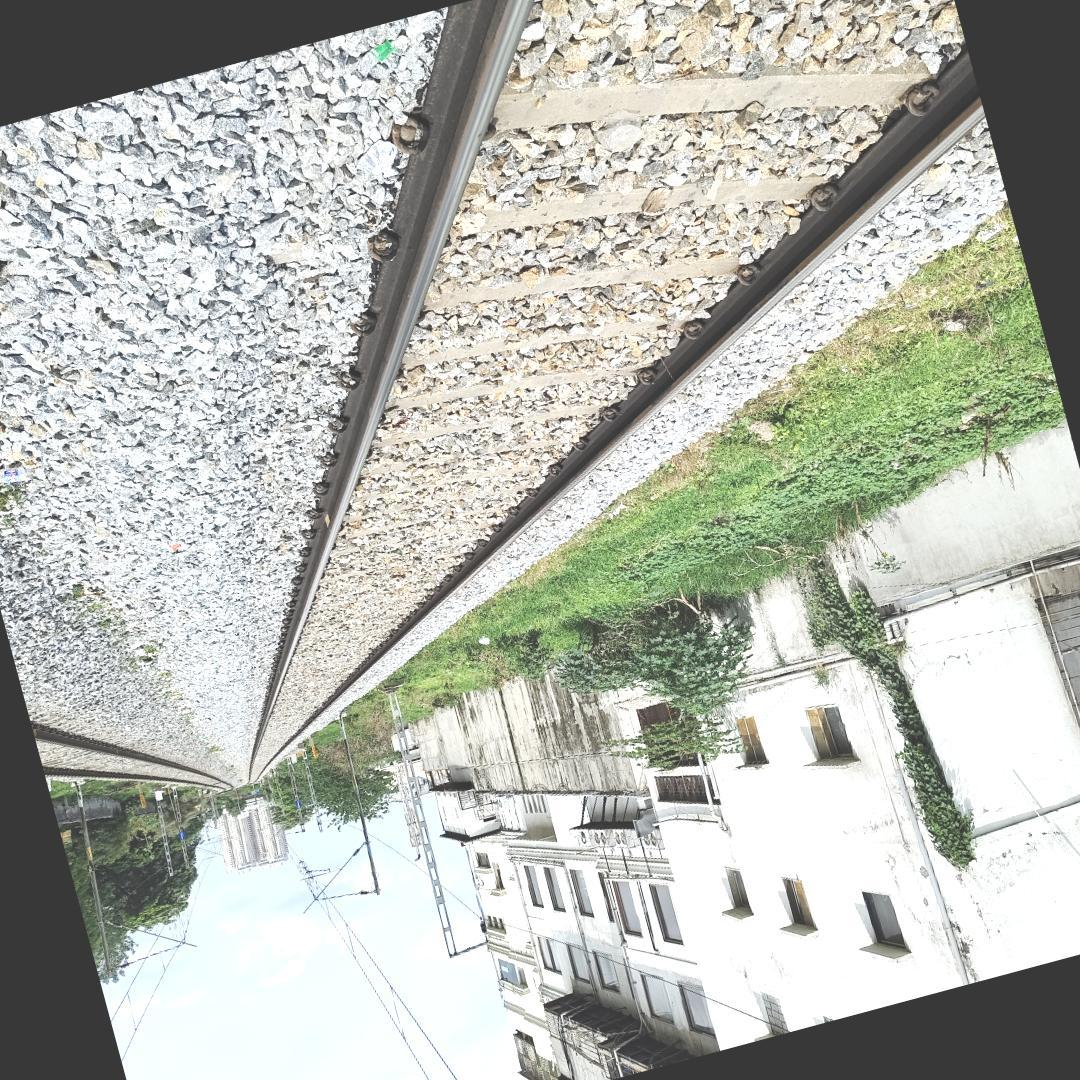track: (245, 0, 988, 787)
